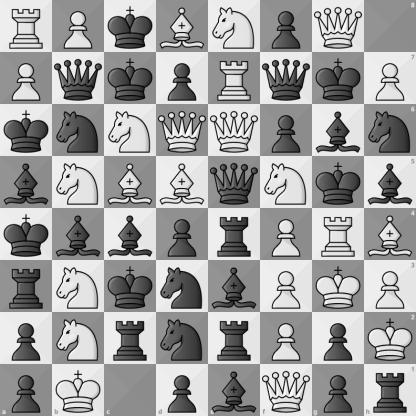B: (364, 209, 416, 260), (105, 157, 156, 208), (157, 1, 208, 52), (157, 157, 208, 208)
K: (52, 364, 104, 416), (364, 312, 416, 364), (313, 261, 364, 312)
N: (53, 157, 104, 208), (53, 261, 104, 312), (53, 313, 104, 364), (105, 105, 156, 156), (209, 1, 260, 52), (261, 157, 312, 208)
P: (364, 52, 416, 104), (364, 260, 416, 312), (1, 53, 52, 104), (53, 1, 104, 52), (261, 209, 312, 260), (261, 261, 312, 312), (261, 313, 312, 364)
Q: (260, 364, 312, 416), (157, 105, 208, 156), (209, 105, 260, 156), (313, 1, 364, 52)
R: (1, 1, 52, 52), (209, 53, 260, 104), (313, 209, 364, 260)
b: (364, 156, 416, 209), (209, 364, 260, 416), (1, 157, 52, 208), (53, 209, 104, 260), (105, 209, 156, 260), (209, 261, 260, 312), (313, 105, 364, 156)
board: (0, 0, 415, 415)
k: (1, 105, 52, 156), (1, 209, 52, 260), (105, 1, 156, 52), (105, 53, 156, 104), (105, 261, 156, 312), (313, 53, 364, 104), (313, 157, 364, 208)
n: (364, 104, 416, 156), (53, 105, 104, 156), (157, 261, 208, 312), (157, 313, 208, 364)
p: (156, 364, 209, 416), (0, 364, 52, 416), (312, 364, 364, 416), (1, 313, 52, 364), (157, 53, 208, 104), (157, 209, 208, 260), (261, 1, 312, 52), (261, 105, 312, 156), (313, 313, 364, 364)
q: (53, 53, 104, 104), (209, 157, 260, 208), (261, 53, 312, 104)
r: (364, 364, 416, 416), (1, 261, 52, 312), (105, 313, 156, 364), (209, 209, 260, 260), (209, 313, 260, 364)
